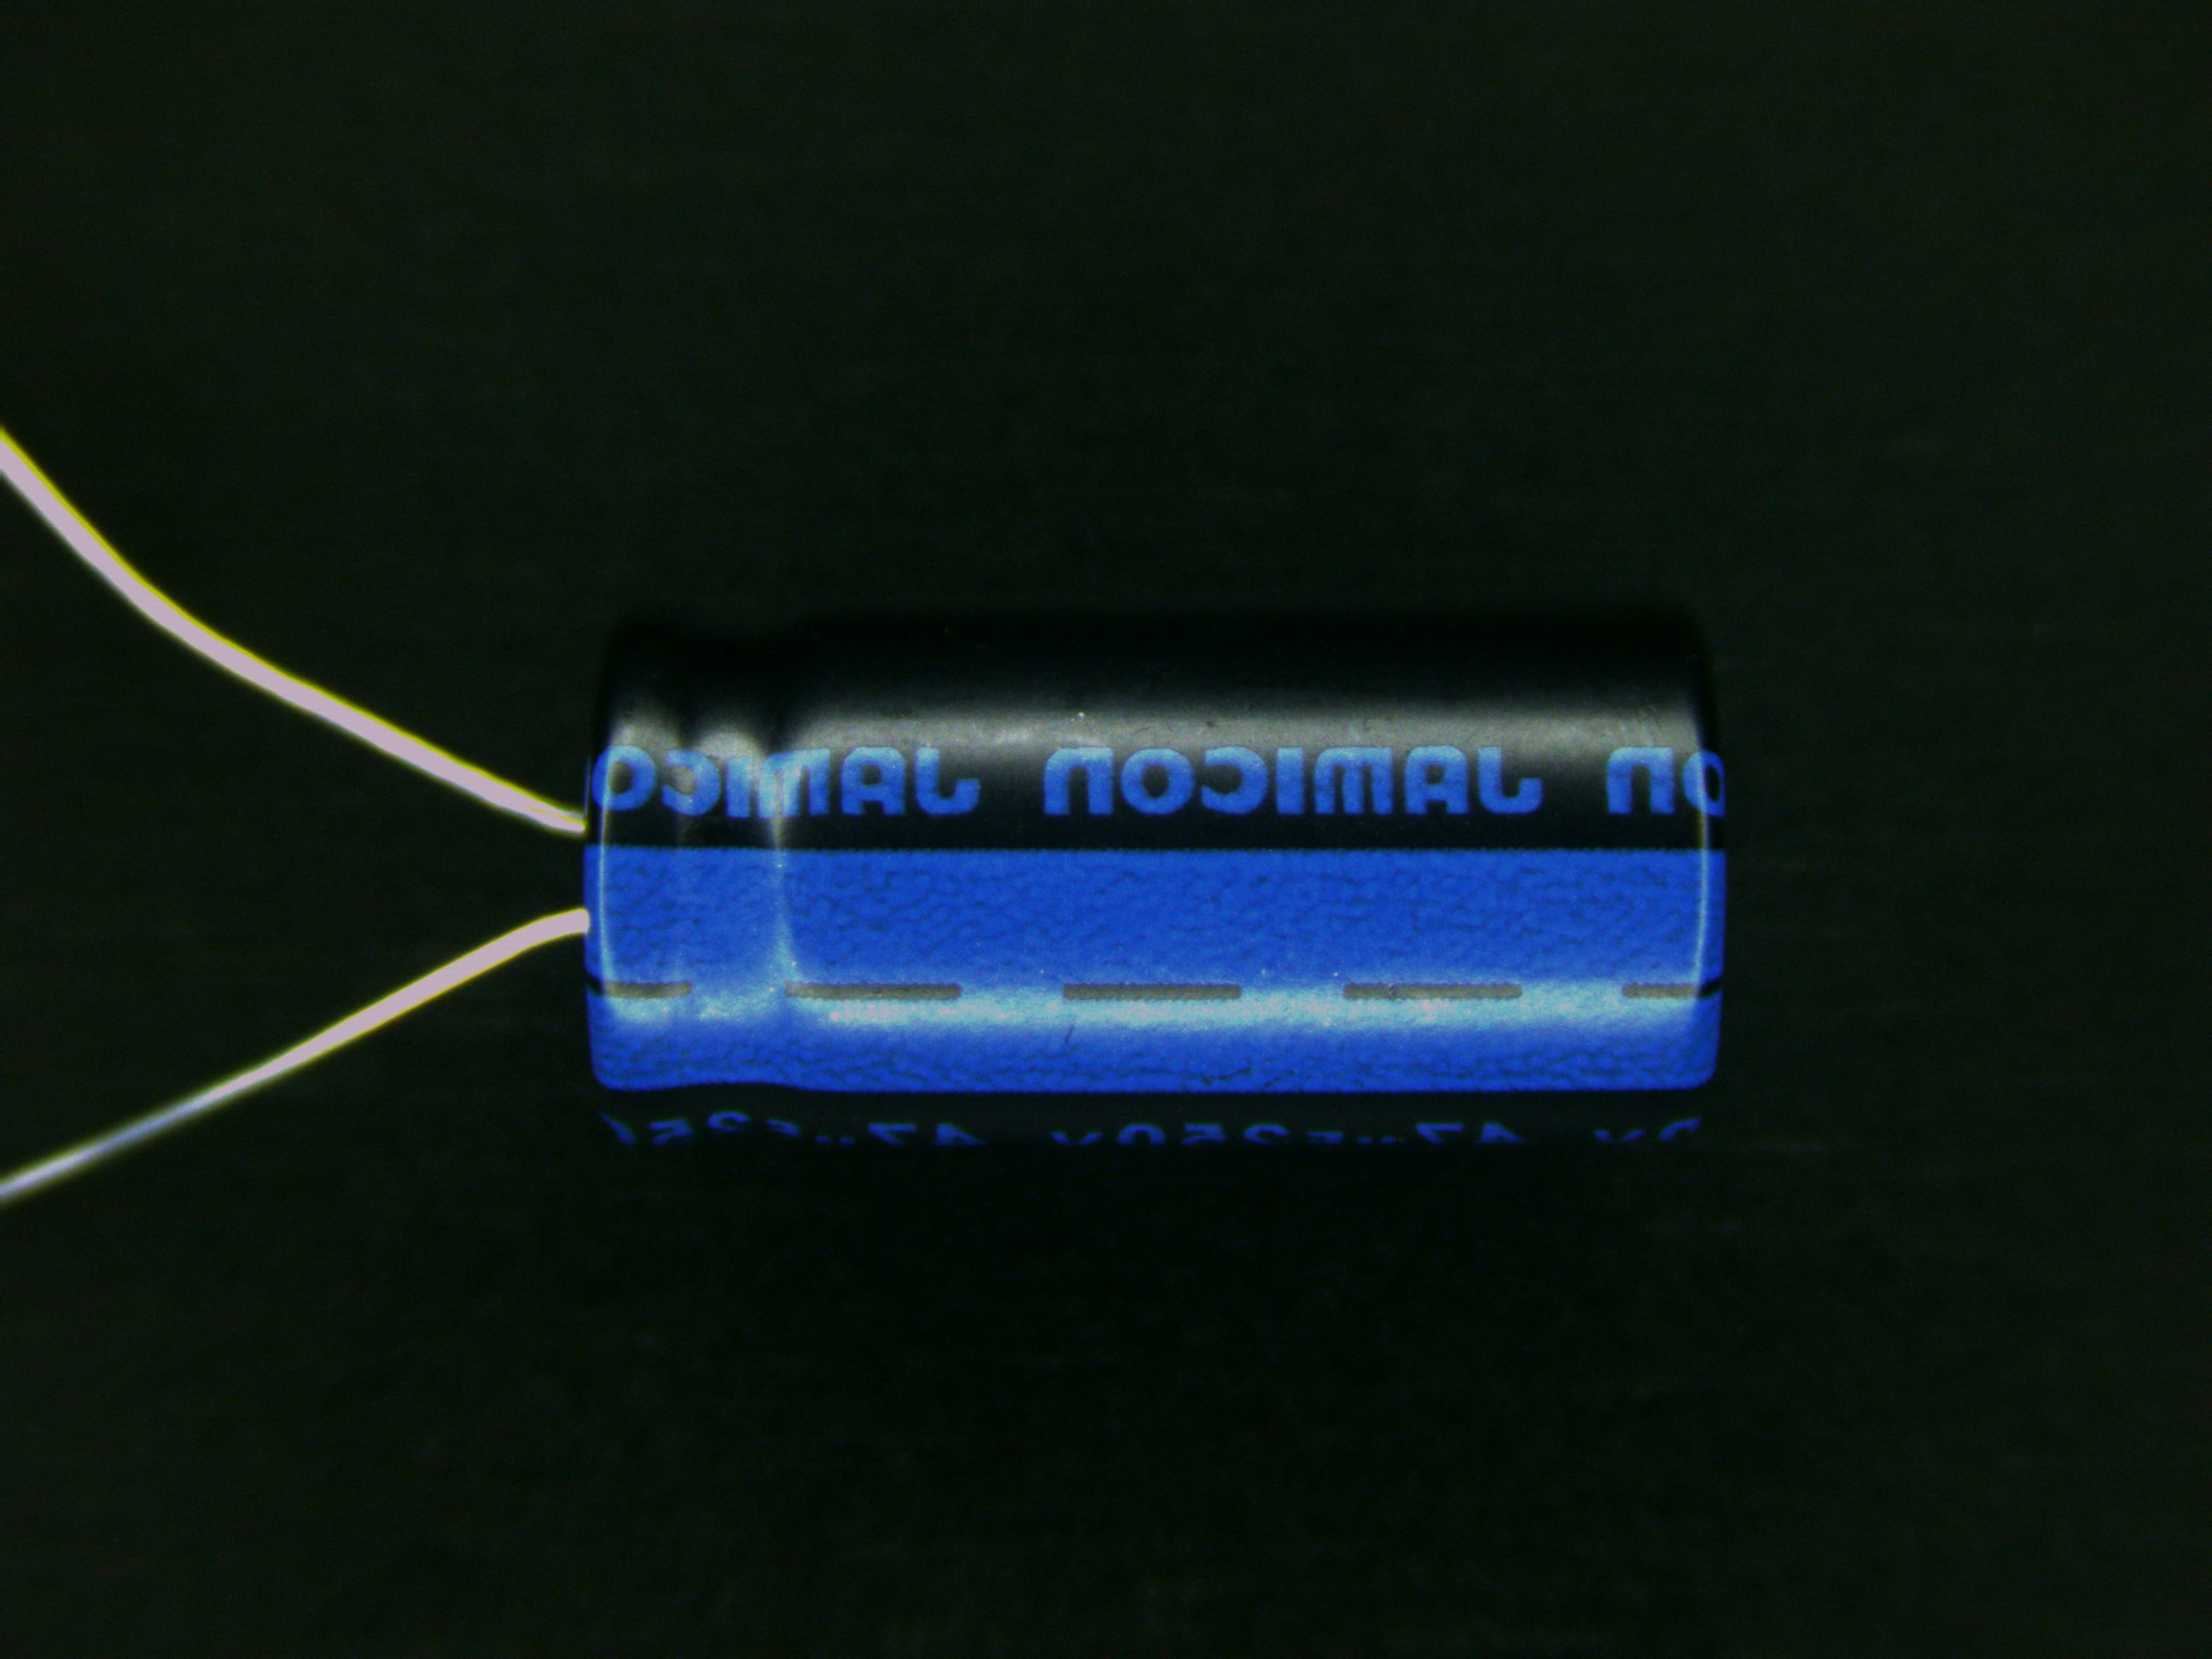c2: (373, 615, 1733, 1162)
